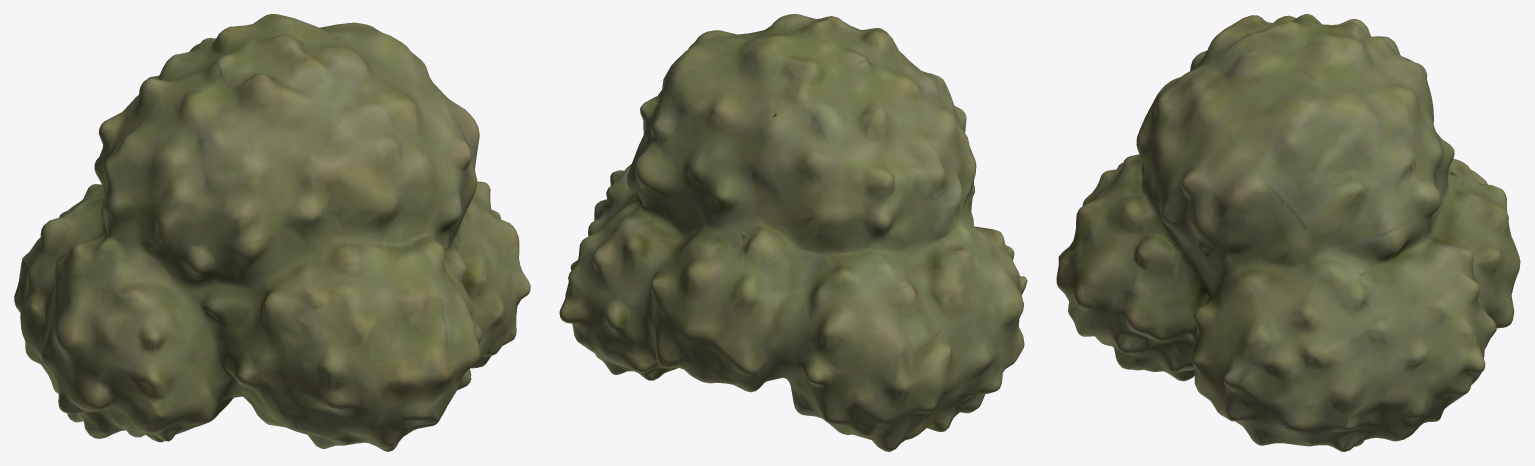
Rendered from Green_Cauliflower.glb.
The picture shows the model from 3 angles, left to right: view 1: azimuth 30°, elevation 25°; view 2: azimuth 150°, elevation 25°; view 3: azimuth 270°, elevation 25°; orthographic projection. The views are drawn at different scales.
Size of the model in its own units: 2 by 1.62 by 1.91.
Materials: 1 (1 with a texture image).
